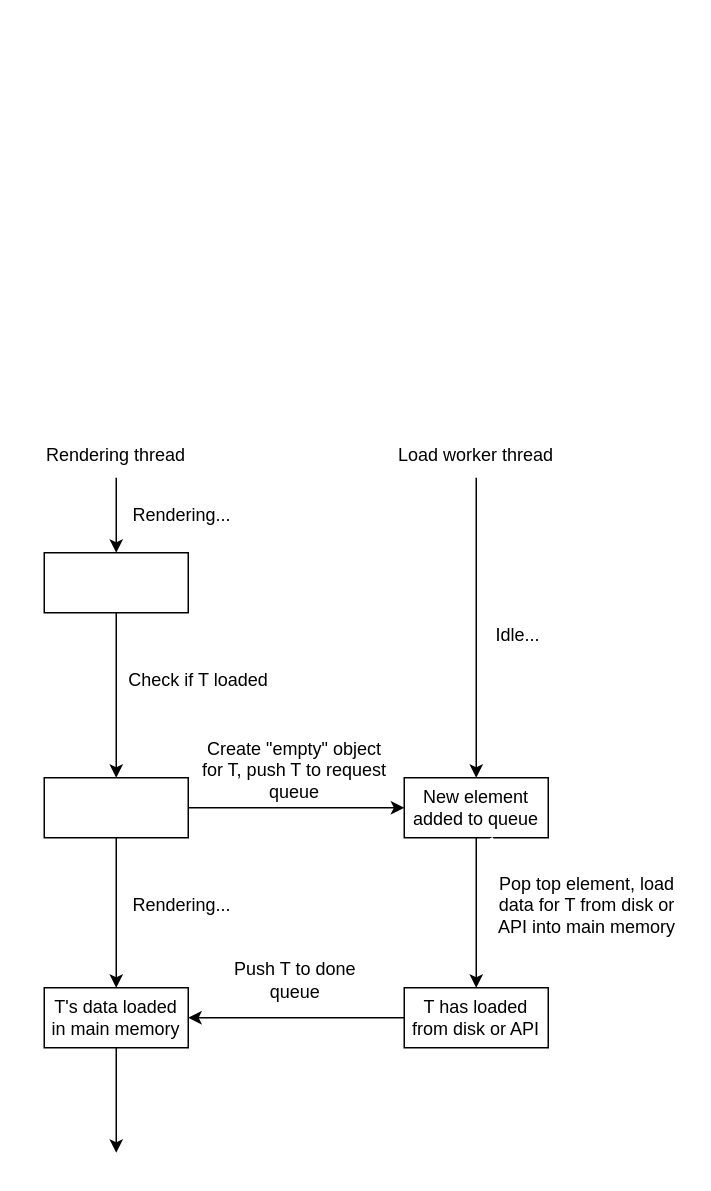
This 711x1191 diagram has some shape labels left out. Each missing label, with the centre of its shape:
"Tile T must be rendered" goes at point 115,582.
"Tile T not loaded" goes at point 115,807.
